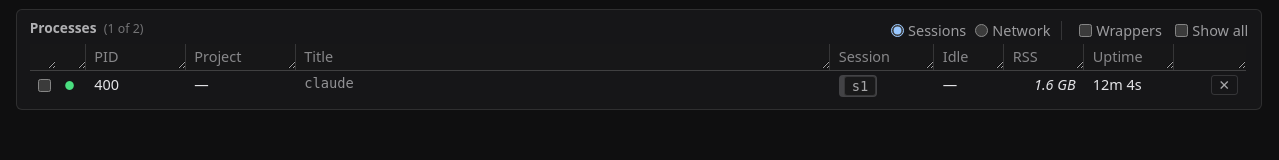
Test: ProcessesPanel › marks subprocess rows (not the claude root) with the live-sweep class in Sessions view
Click the radio button labelled "Sessions" at [897, 31], box [891,24,904,37]
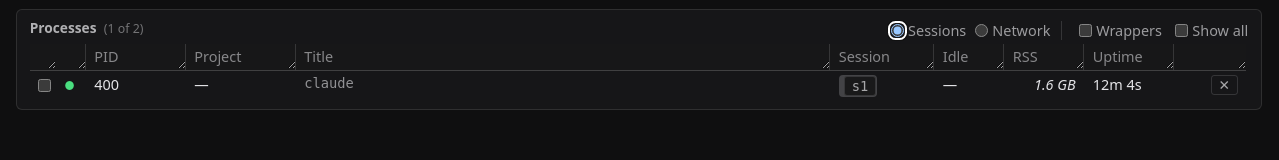
Click the button named "expand" at [70, 85], box [64,78,75,93]
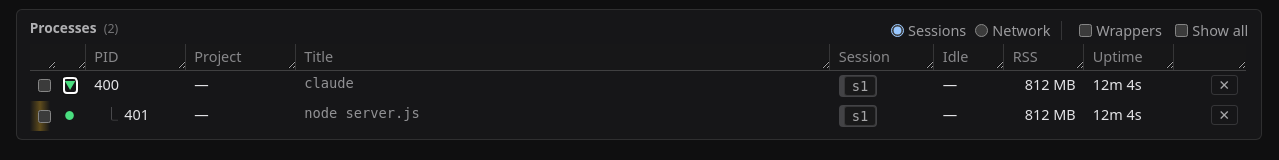
Expected: the number of rows with class "subprocess-active" is 1, [30,101,1246,131]
Expected: the row with class "subprocess-active" shows "401", [124,105,149,124]
